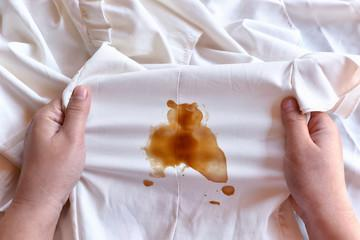gun: (144, 97, 228, 184), (219, 184, 235, 195), (205, 200, 221, 205)
